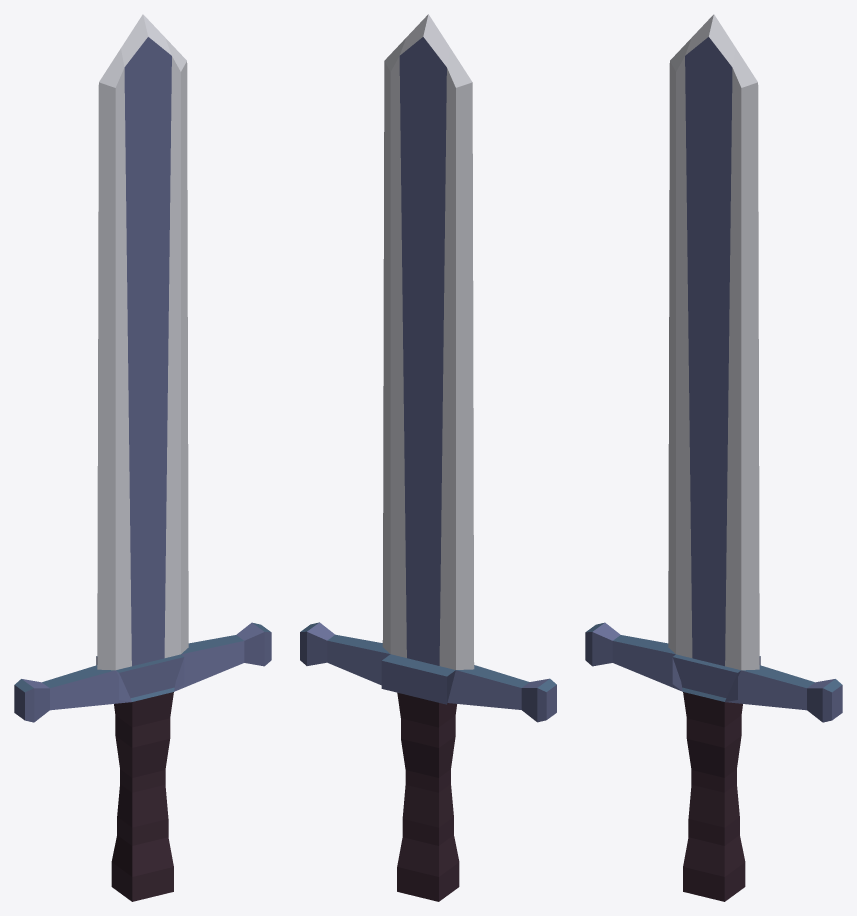
The model's file is sword.fbx.
The picture shows the model from 3 angles, left to right: view 1: azimuth 30°, elevation 25°; view 2: azimuth 150°, elevation 25°; view 3: azimuth 330°, elevation 25°; orthographic projection.
Parts seen in each view (by area): view 1: Cube; view 2: Cube; view 3: Cube.
Boxes of the visible parts, x1,y1,x2,y2 form: Cube: (14, 14, 271, 901); Cube: (300, 14, 556, 901); Cube: (585, 14, 842, 901).
Size of the model in its own units: 226 by 768 by 38.48.
